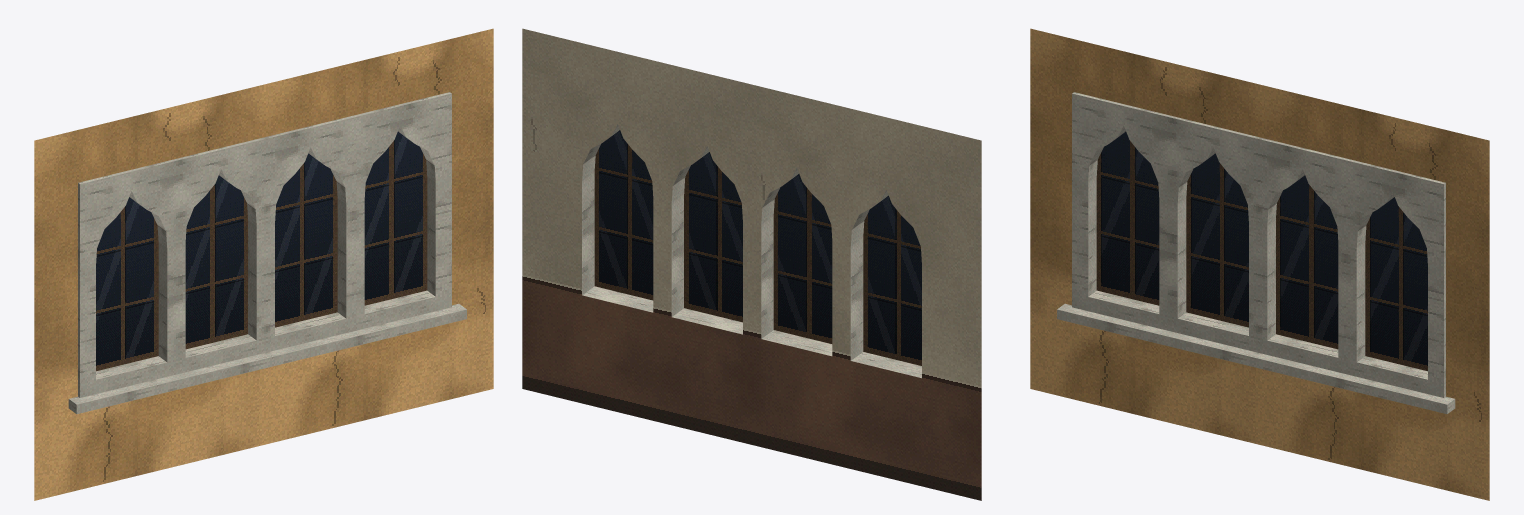
Rendered from ext_quadrifora.gltf.
The picture shows the model from 3 angles, left to right: view 1: azimuth 30°, elevation 25°; view 2: azimuth 150°, elevation 25°; view 3: azimuth 330°, elevation 25°; orthographic projection.
Visible parts, largest first — view 1: ext_quadrifora-col; view 2: ext_quadrifora-col; view 3: ext_quadrifora-col.
Part boxes in pixels (x1,y1,x2,y2): ext_quadrifora-col: (34, 28, 493, 500); ext_quadrifora-col: (522, 28, 981, 500); ext_quadrifora-col: (1030, 28, 1489, 500).
Size of the model in its own units: 4 by 3 by 0.42.
Materials: 4 (4 with a texture image).
